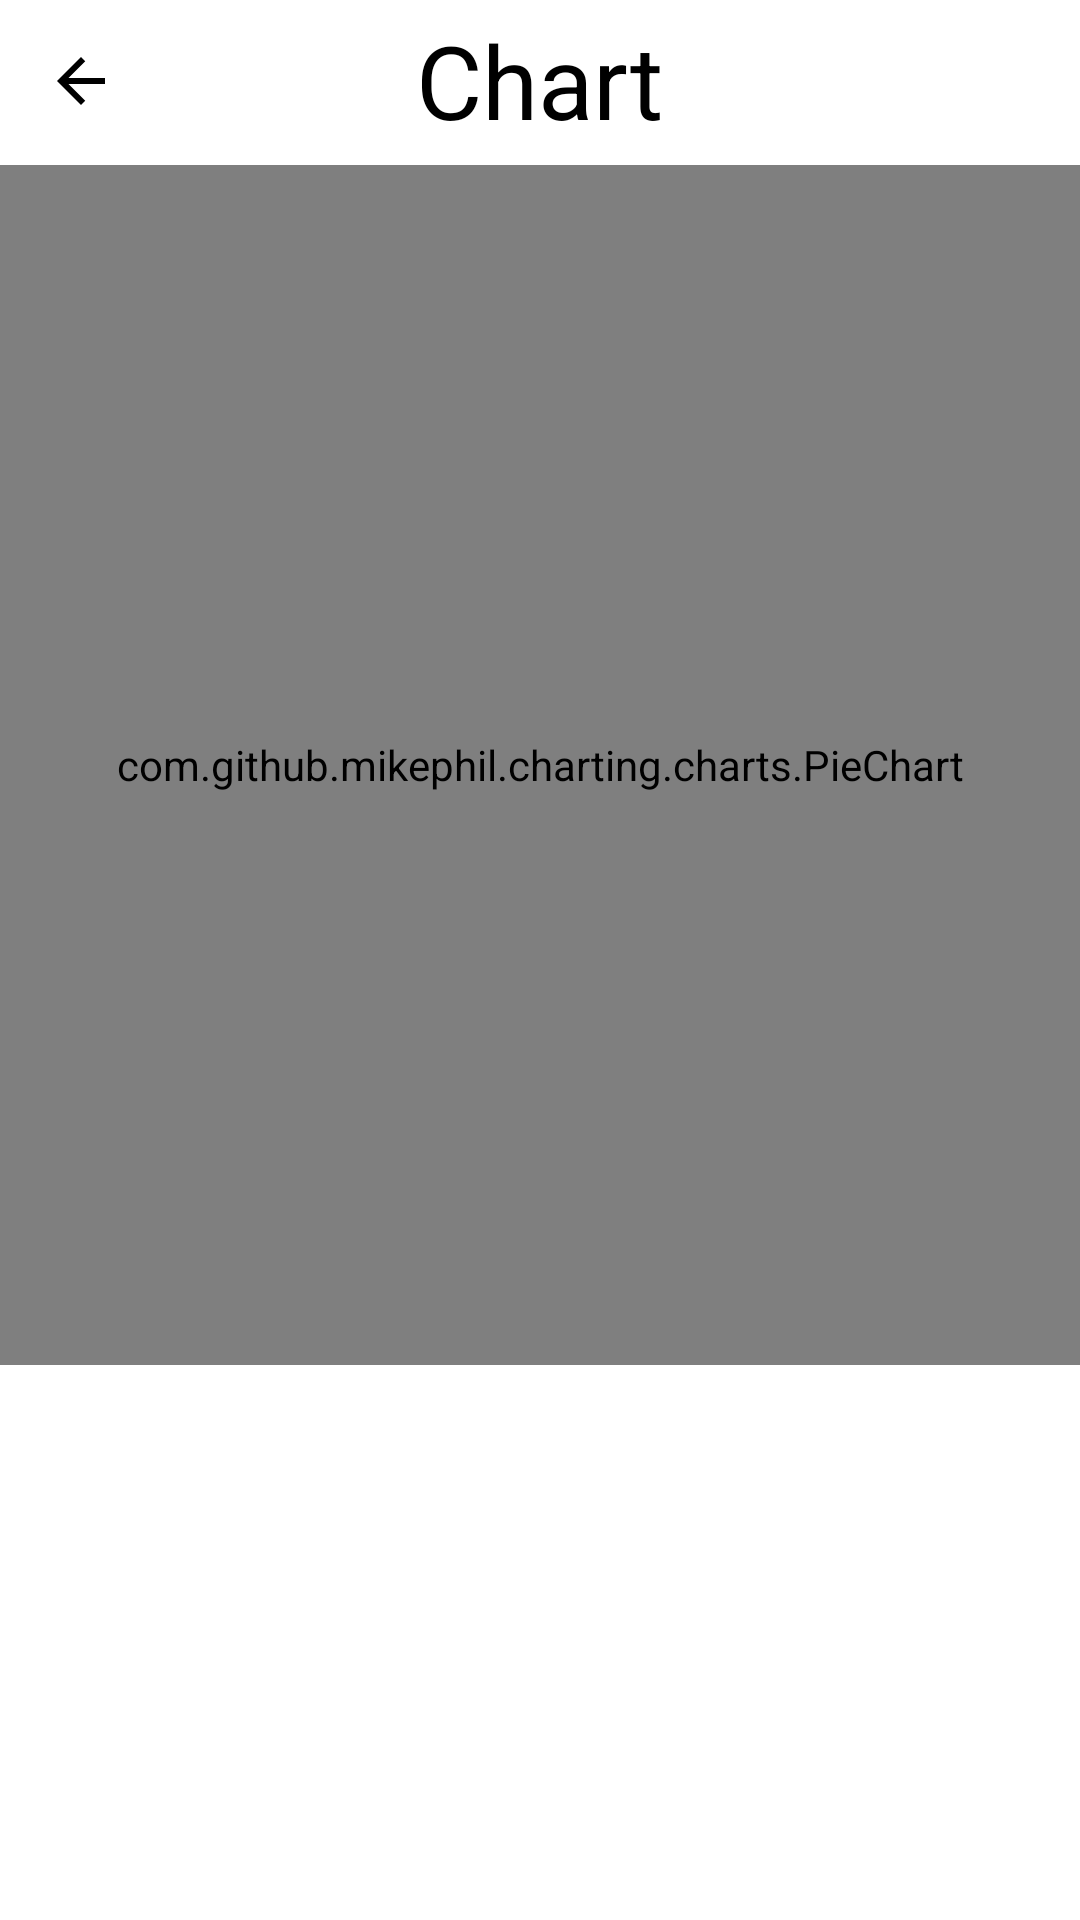

Icon click points for this 1080 x 1920 phone screenshot, format [x,y]:
back: [81,81]
